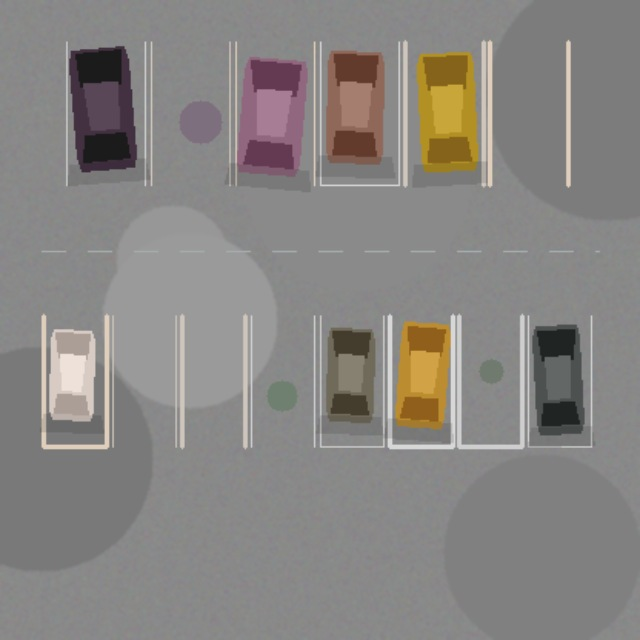space-empty: (489, 42, 568, 185), (151, 42, 229, 185), (458, 315, 522, 446), (112, 315, 175, 446), (182, 315, 245, 446), (251, 315, 314, 446)
space-occupied: (66, 42, 145, 185), (235, 42, 314, 185), (320, 42, 398, 185), (405, 42, 483, 185), (43, 315, 106, 446), (320, 315, 383, 446), (389, 315, 452, 446), (528, 315, 591, 446)
